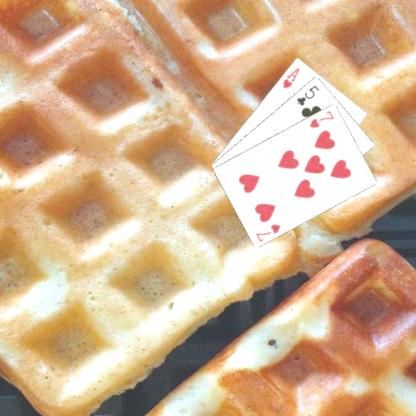5C: (294, 82, 321, 107)
7H: (306, 107, 336, 129), (252, 221, 282, 243)
AH: (280, 64, 300, 90)
